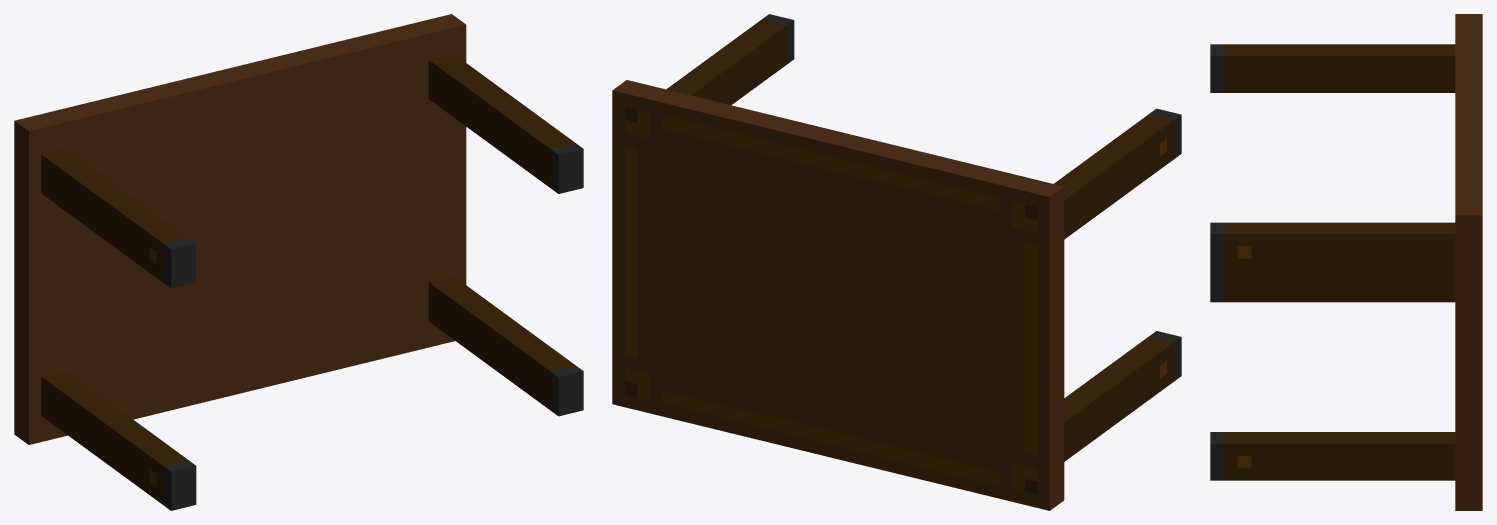
The model's file is table.fbx.
The picture shows the model from 3 angles, left to right: view 1: azimuth 30°, elevation 25°; view 2: azimuth 150°, elevation 25°; view 3: azimuth 270°, elevation 25°; orthographic projection. The views are drawn at different scales.
Visible parts, largest first — view 1: imagetostl_mesh0; view 2: imagetostl_mesh0; view 3: imagetostl_mesh0.
Boxes of the visible parts, x1,y1,x2,y2 form: imagetostl_mesh0: (14, 14, 583, 510); imagetostl_mesh0: (612, 14, 1181, 510); imagetostl_mesh0: (1210, 14, 1482, 510).
Size of the model in its own units: 5.25 by 3.6 by 3.
